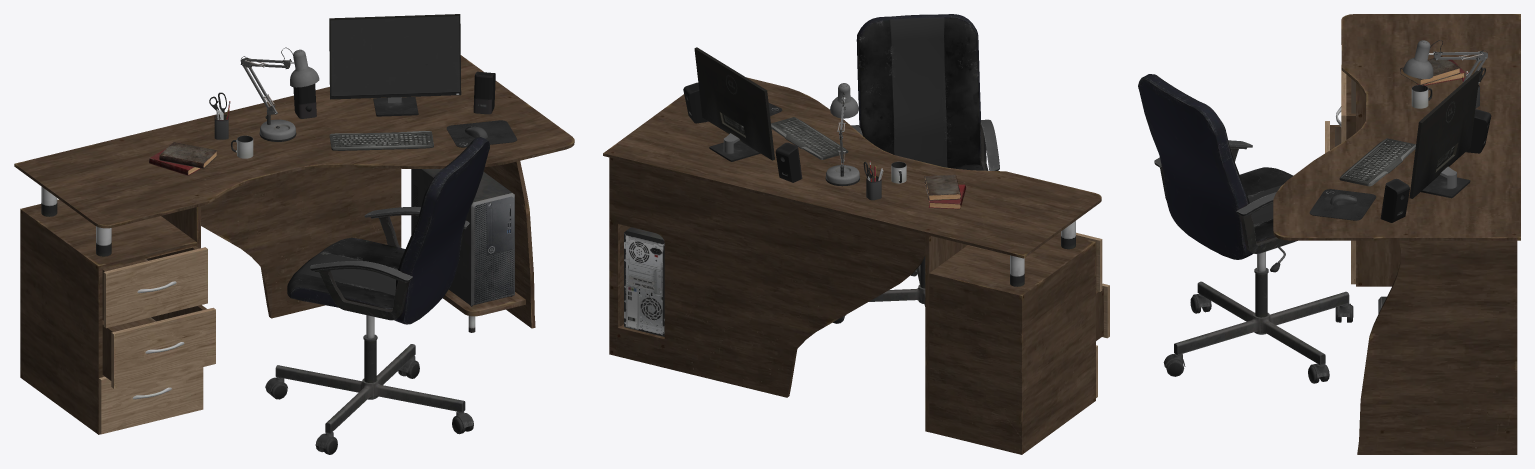
Rendered from computer-desk.glb.
The picture shows the model from 3 angles, left to right: view 1: azimuth 30°, elevation 25°; view 2: azimuth 150°, elevation 25°; view 3: azimuth 270°, elevation 25°; orthographic projection. The views are drawn at different scales.
Parts seen in each view (by area): view 1: Desk_Desk_0, Chair_Chair_0, Monitor_Monitor_0, Computer_Computer_0, DeskLamp_DeskLamp_0, Keyboard_Keyboard_0, Mat_Mouse_0, Book01_Book01_0, Loudspeaker02_Loudspeaker02_0, Loudspeaker01_Loudspeaker01_0, Pen01.001_StationeryCup_0; view 2: Desk_Desk_0, Chair_Chair_0, Monitor_Monitor_0, Computer_Computer_0, Keyboard_Keyboard_0, DeskLamp_DeskLamp_0, Book01_Book01_0, Loudspeaker01_Loudspeaker01_0, Loudspeaker02_Loudspeaker02_0, Pen01.001_StationeryCup_0; view 3: Desk_Desk_0, Chair_Chair_0, Monitor_Monitor_0, Keyboard_Keyboard_0, Mat_Mouse_0, DeskLamp_DeskLamp_0, Loudspeaker02_Loudspeaker02_0, Book01_Book01_0, Loudspeaker01_Loudspeaker01_0, Cup_Cup_0.
Boxes of the visible parts, left/top/right/bottom form: Desk_Desk_0: left=14, top=55, right=574, bottom=434; Chair_Chair_0: left=265, top=137, right=489, bottom=454; Monitor_Monitor_0: left=329, top=14, right=461, bottom=116; Computer_Computer_0: left=411, top=168, right=514, bottom=306; DeskLamp_DeskLamp_0: left=240, top=47, right=319, bottom=141; Keyboard_Keyboard_0: left=329, top=131, right=433, bottom=150; Mat_Mouse_0: left=446, top=120, right=517, bottom=147; Book01_Book01_0: left=159, top=142, right=217, bottom=168; Loudspeaker02_Loudspeaker02_0: left=473, top=71, right=495, bottom=114; Loudspeaker01_Loudspeaker01_0: left=293, top=83, right=316, bottom=118; Pen01.001_StationeryCup_0: left=209, top=92, right=230, bottom=139; Desk_Desk_0: left=603, top=77, right=1109, bottom=454; Chair_Chair_0: left=833, top=14, right=999, bottom=323; Monitor_Monitor_0: left=694, top=47, right=774, bottom=161; Computer_Computer_0: left=624, top=227, right=664, bottom=336; Keyboard_Keyboard_0: left=771, top=117, right=848, bottom=159; DeskLamp_DeskLamp_0: left=825, top=83, right=859, bottom=186; Book01_Book01_0: left=924, top=174, right=960, bottom=200; Loudspeaker01_Loudspeaker01_0: left=775, top=142, right=802, bottom=182; Loudspeaker02_Loudspeaker02_0: left=683, top=82, right=708, bottom=123; Pen01.001_StationeryCup_0: left=863, top=161, right=883, bottom=200; Desk_Desk_0: left=1273, top=14, right=1520, bottom=454; Chair_Chair_0: left=1138, top=74, right=1353, bottom=383; Monitor_Monitor_0: left=1409, top=70, right=1479, bottom=198; Keyboard_Keyboard_0: left=1339, top=138, right=1415, bottom=186; Mat_Mouse_0: left=1309, top=189, right=1376, bottom=220; DeskLamp_DeskLamp_0: left=1403, top=40, right=1487, bottom=82; Loudspeaker02_Loudspeaker02_0: left=1380, top=178, right=1409, bottom=222; Book01_Book01_0: left=1400, top=56, right=1460, bottom=84; Loudspeaker01_Loudspeaker01_0: left=1466, top=109, right=1491, bottom=153; Cup_Cup_0: left=1411, top=85, right=1432, bottom=108.
Size of the model in its own units: 1.6 by 1.04 by 1.16.
Materials: 14 (14 with a texture image).
